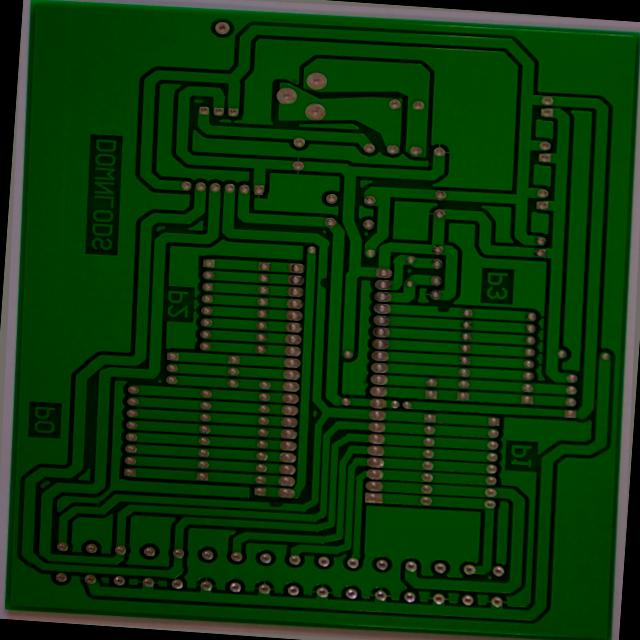mouse_bite: (434, 304, 456, 320), (258, 500, 282, 514), (314, 273, 331, 292)
